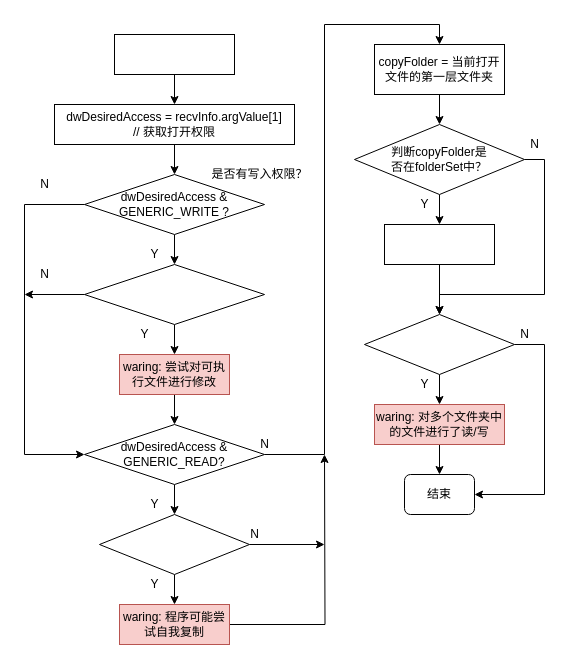
The diagram is 570 pixels wide and 662 high, and some of its shapes have lost their labels. Here are the shapes that lost their labels. From the top down, the centre of each, then its label:
(x=174, y=54): case CREATEFILE
(x=439, y=244): 将copyFolder添加到folderSet中
(x=174, y=294): 检查文件后缀名是 否为.exe .dll .ocx
(x=439, y=344): folderSet的文件 夹数量大于2？
(x=174, y=544): 检查文件名是否 和自身相同？
